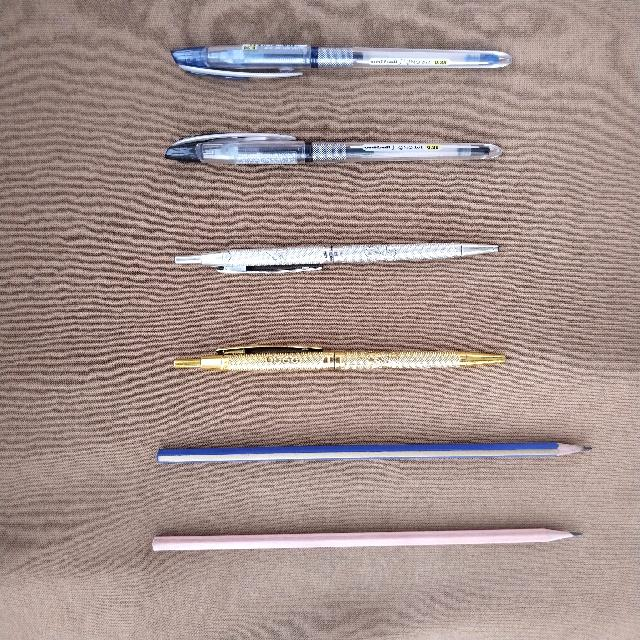pen: (172, 44, 511, 78), (165, 133, 501, 164)
pencil: (152, 528, 580, 550), (156, 442, 589, 462)
signature pen: (175, 243, 498, 273), (170, 344, 512, 368)
